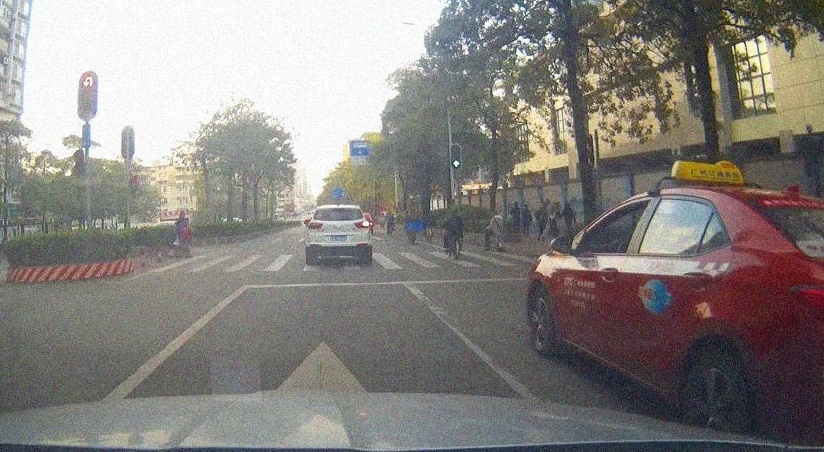L_light: (307, 222, 323, 229)
R_light: (353, 220, 369, 228)
T_light: (332, 208, 344, 211)
day-right: (305, 205, 370, 264)
